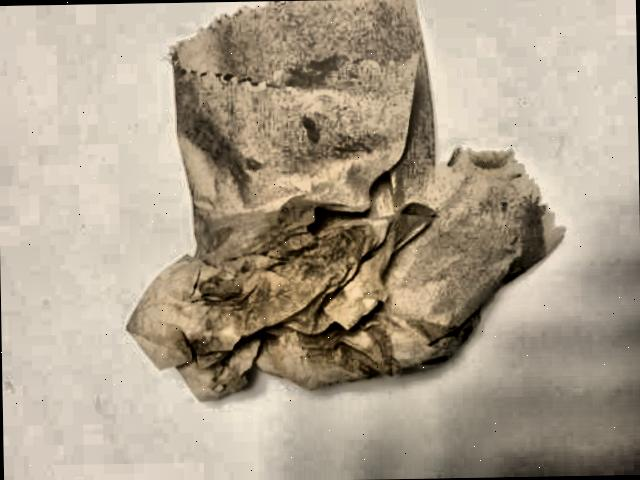Paper: (118, 0, 626, 476)
